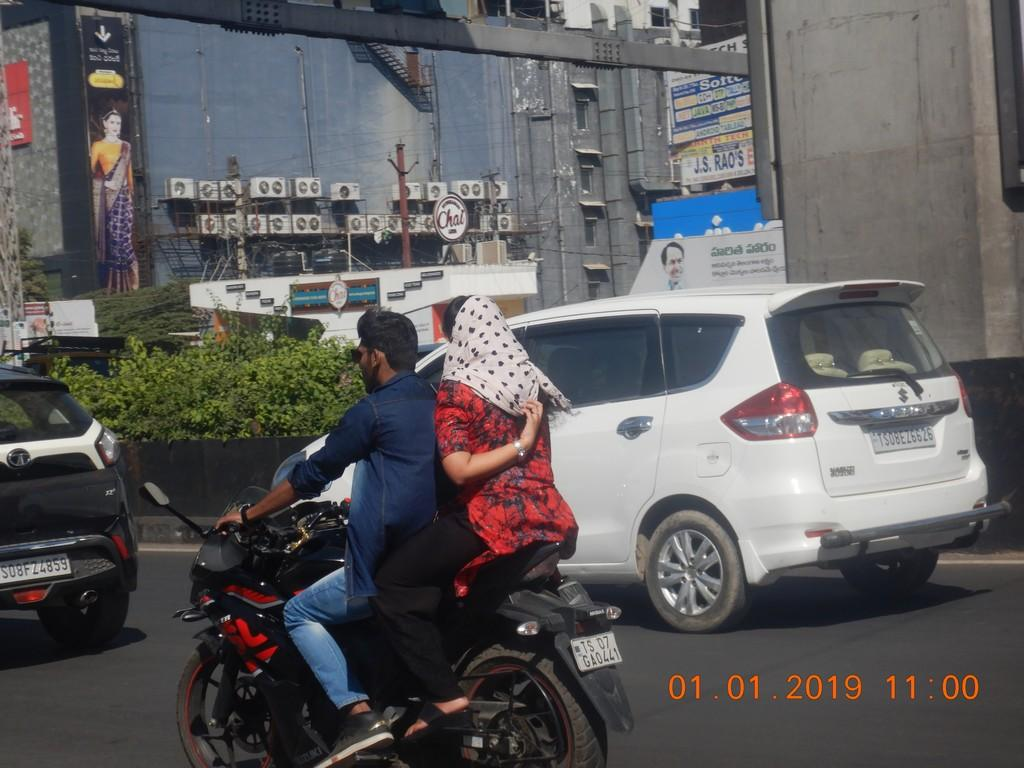plate: (577, 631, 623, 672)
